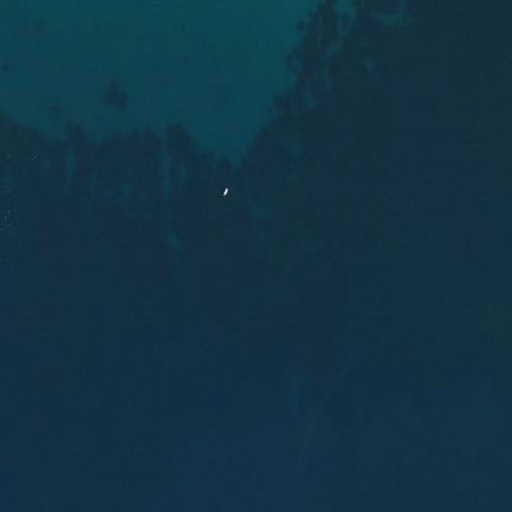ship: (220, 185, 230, 197)
